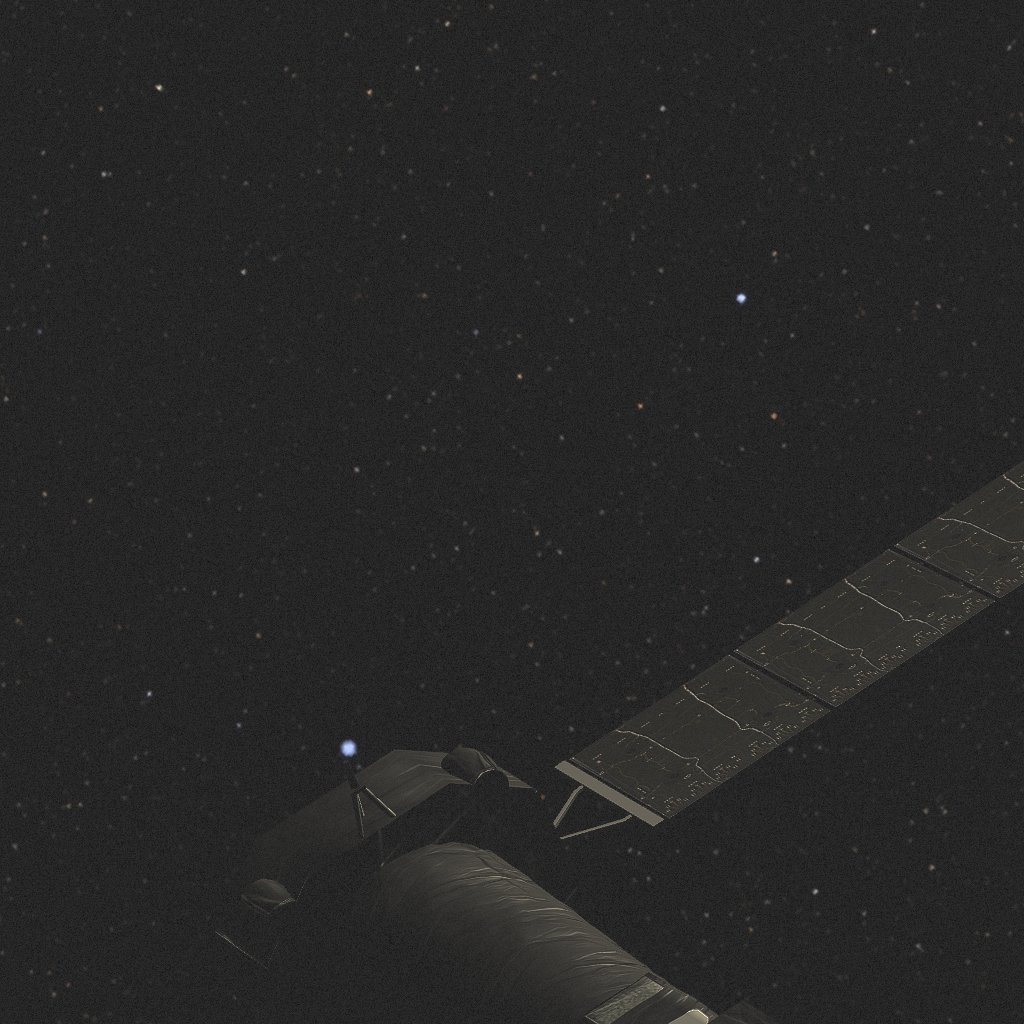xmm_newton: (215, 460, 1024, 1024)
